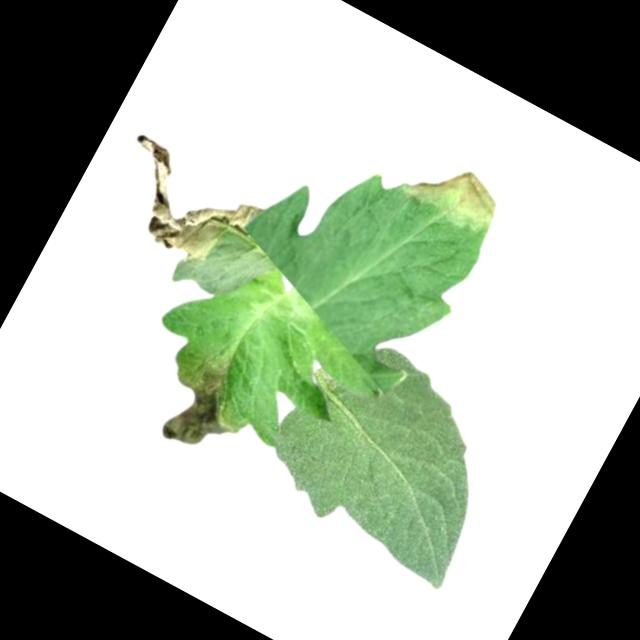Late_blight: (95, 132, 271, 284), (147, 341, 271, 471), (396, 146, 515, 247)
